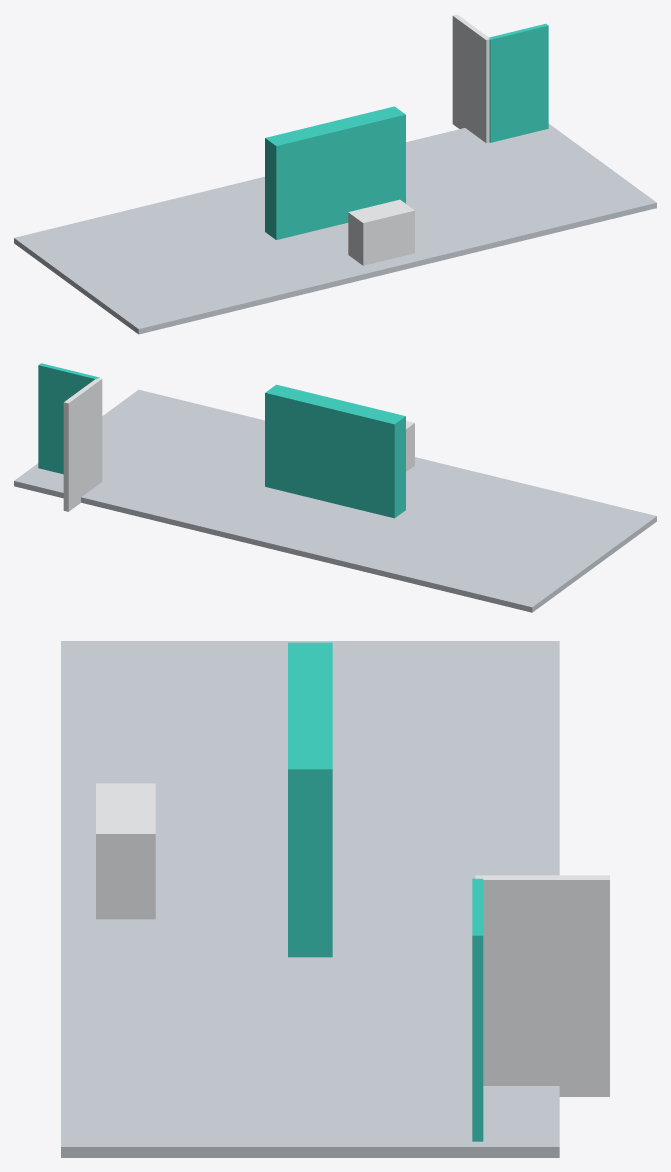
3 renders of one model, top to bottom at view 1: azimuth 30°, elevation 25°; view 2: azimuth 150°, elevation 25°; view 3: azimuth 270°, elevation 25°, orthographic. The views are drawn at different scales.
Parts seen in each view (by area): view 1: Exhibition Booth Concept; view 2: Exhibition Booth Concept; view 3: Exhibition Booth Concept.
Boxes of the visible parts, x1=… form: Exhibition Booth Concept: x1=14, y1=14, x2=656, y2=334; Exhibition Booth Concept: x1=14, y1=363, x2=656, y2=612; Exhibition Booth Concept: x1=61, y1=641, x2=609, y2=1157.
Size of the model in its own units: 12 by 2.4 by 5.51.
